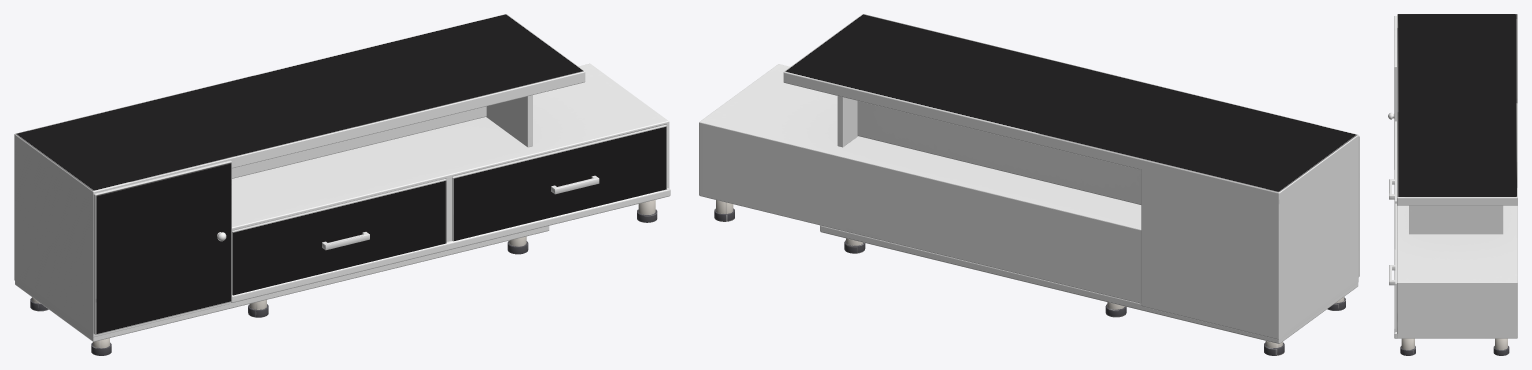
File: Tv_shelf_008.gltf
3 renders of one model, left to right at view 1: azimuth 30°, elevation 25°; view 2: azimuth 150°, elevation 25°; view 3: azimuth 270°, elevation 25°, orthographic. The views are drawn at different scales.
Visible parts, largest first — view 1: Tv_shelf_008; view 2: Tv_shelf_008; view 3: Tv_shelf_008.
Boxes of the visible parts, x1,y1,x2,y2 form: Tv_shelf_008: (14,14,670,355); Tv_shelf_008: (699,14,1359,355); Tv_shelf_008: (1388,14,1517,355).
Bounding box in the file's own units: 1.39 × 0.3905 × 0.3548.
1 material, 1 textured.
